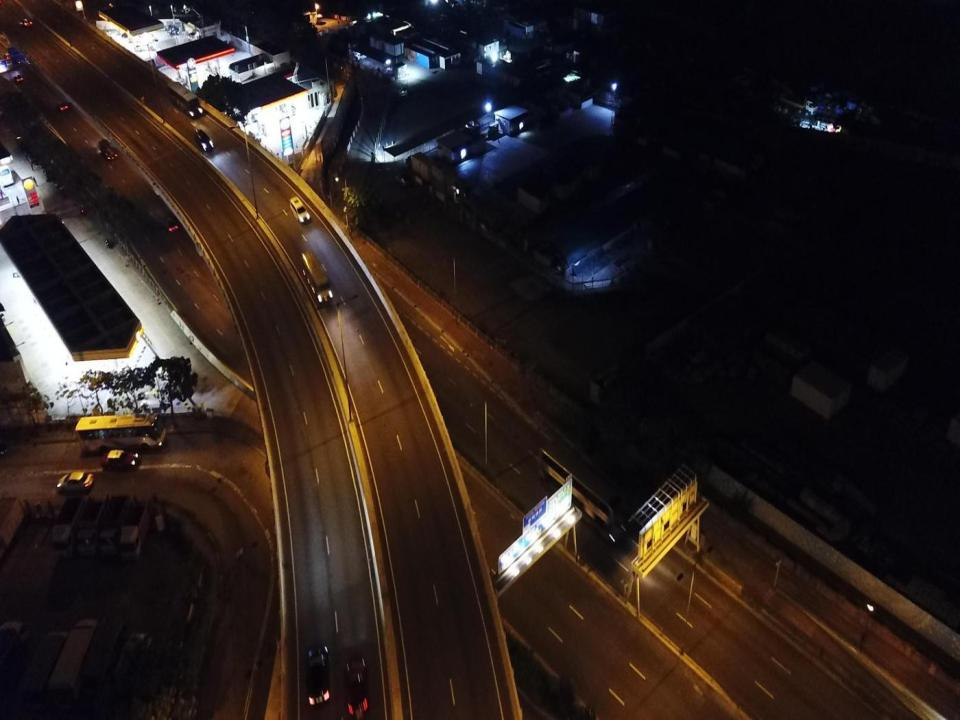bus: (75, 416, 166, 456), (301, 252, 332, 304), (168, 81, 202, 118)
car: (307, 646, 331, 707), (345, 658, 369, 718), (100, 448, 140, 469), (56, 472, 93, 492), (96, 138, 116, 161), (163, 217, 178, 232), (395, 174, 412, 187), (394, 87, 409, 98), (355, 51, 368, 60), (57, 102, 67, 110), (78, 202, 84, 215), (22, 18, 31, 26), (14, 75, 23, 82), (121, 32, 133, 37)
truck: (81, 616, 127, 706), (41, 620, 86, 711), (18, 631, 66, 713), (0, 622, 30, 697), (120, 500, 152, 561), (0, 497, 26, 571), (51, 496, 82, 558), (118, 633, 152, 689), (101, 496, 132, 557), (78, 496, 108, 558)
van: (289, 196, 310, 225), (196, 128, 214, 151)
